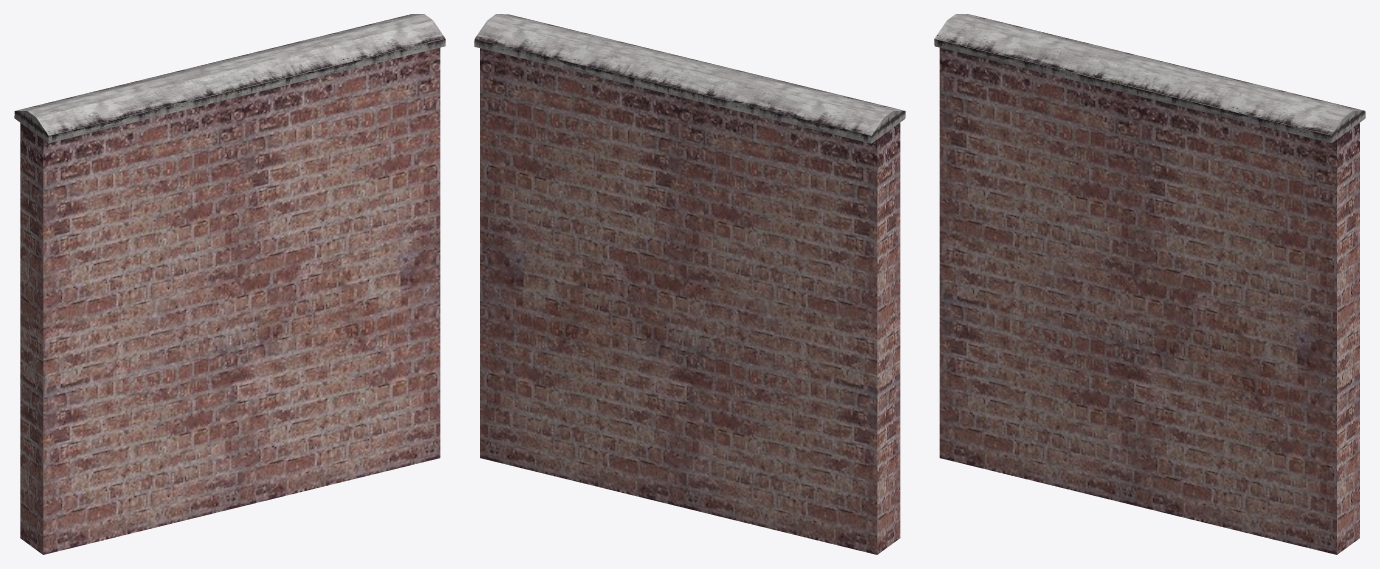
The model's file is Urban_BrickWallSmall_Model.fbx.
The picture shows the model from 3 angles, left to right: view 1: azimuth 30°, elevation 25°; view 2: azimuth 150°, elevation 25°; view 3: azimuth 330°, elevation 25°; orthographic projection.
Parts seen in each view (by area): view 1: Urban_BrickWallSmall_Mesh; view 2: Urban_BrickWallSmall_Mesh; view 3: Urban_BrickWallSmall_Mesh.
Part boxes in pixels (box(x1,y1,x2,y2)): Urban_BrickWallSmall_Mesh: box(14, 14, 445, 554); Urban_BrickWallSmall_Mesh: box(474, 14, 905, 554); Urban_BrickWallSmall_Mesh: box(934, 14, 1365, 554).
Size of the model in its own units: 2 by 2.08 by 0.2996.
